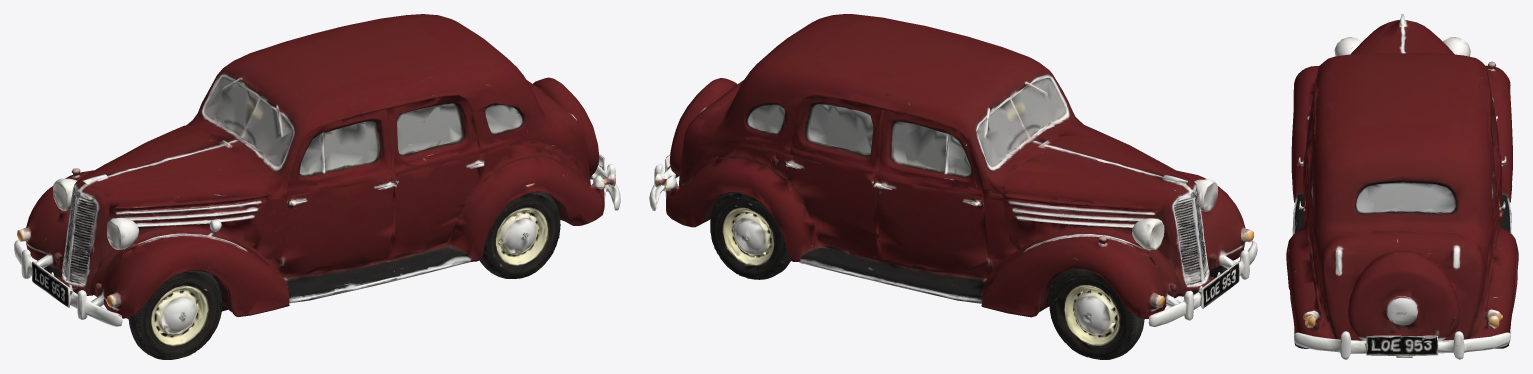
File: v8-pilot.glb
The picture shows the model from 3 angles, left to right: view 1: azimuth 30°, elevation 25°; view 2: azimuth 150°, elevation 25°; view 3: azimuth 270°, elevation 25°; orthographic projection. The views are drawn at different scales.
Size of the model in its own units: 1.9 by 0.7196 by 0.7321.
Materials: 1 (1 with a texture image).
